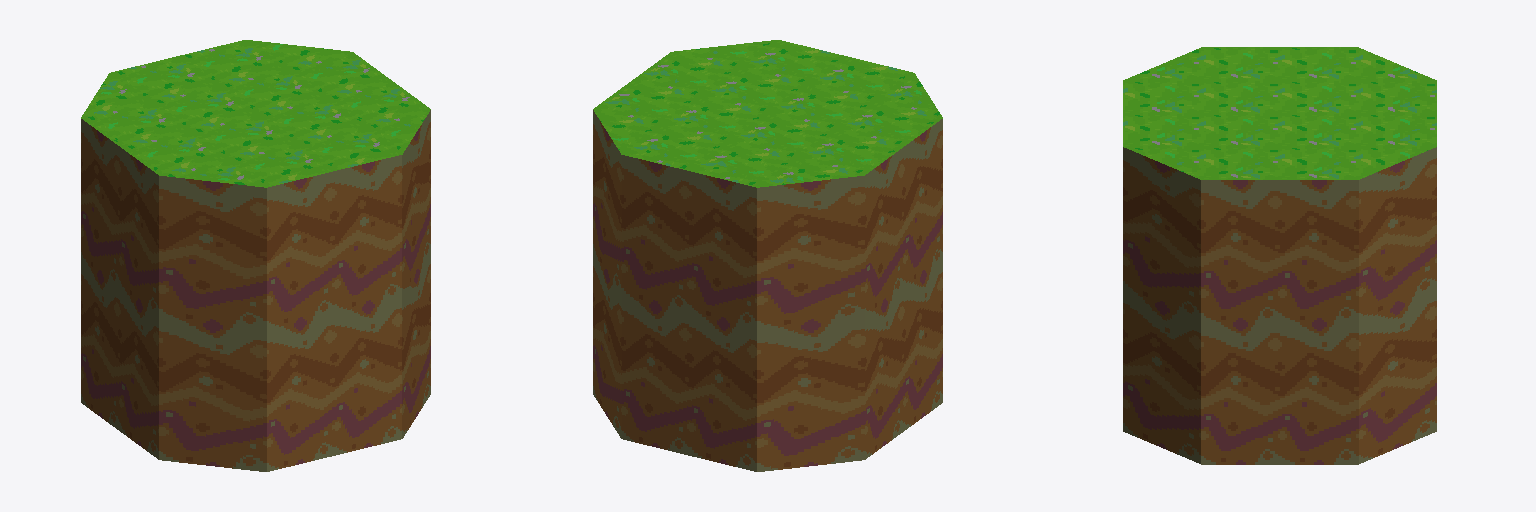
3 views of the same model, side by side, from view 1: azimuth 30°, elevation 25°; view 2: azimuth 150°, elevation 25°; view 3: azimuth 270°, elevation 25° (orthographic).
Visible parts, largest first — view 1: Default; view 2: Default; view 3: Default.
Boxes of the visible parts, <box> form: Default: <box>81,40,430,471</box>; Default: <box>593,40,942,471</box>; Default: <box>1123,47,1436,464</box>.
Size of the model in its own units: 8 by 8 by 8.
1 materials, 1 textured.